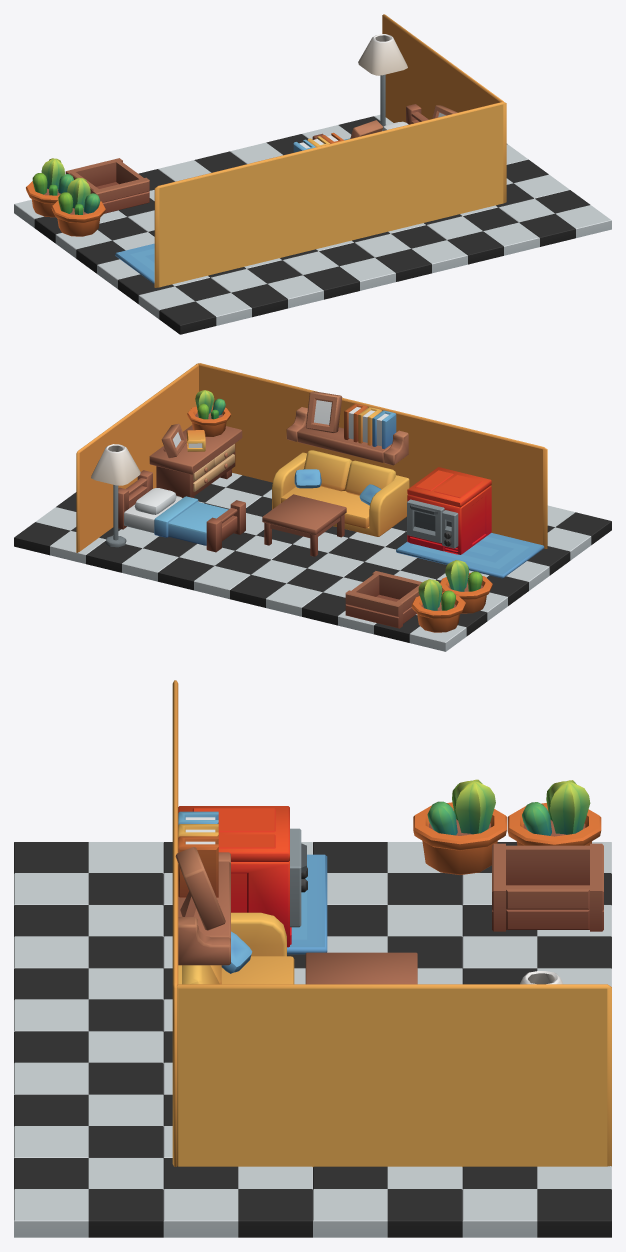
File: map3.glb
3 renders of one model, top to bottom at view 1: azimuth 30°, elevation 25°; view 2: azimuth 150°, elevation 25°; view 3: azimuth 270°, elevation 25°, orthographic. The views are drawn at different scales.
Parts seen in each view (by area): view 1: floor_kitchen; view 2: floor_kitchen; view 3: floor_kitchen.
Part boxes in pixels (<box>): floor_kitchen: <box>14,14,611,334</box>; floor_kitchen: <box>14,363,611,651</box>; floor_kitchen: <box>14,680,611,1237</box>.
Bounding box in the file's own units: 24.07 × 6.15 × 16.
14 materials, 14 textured.
